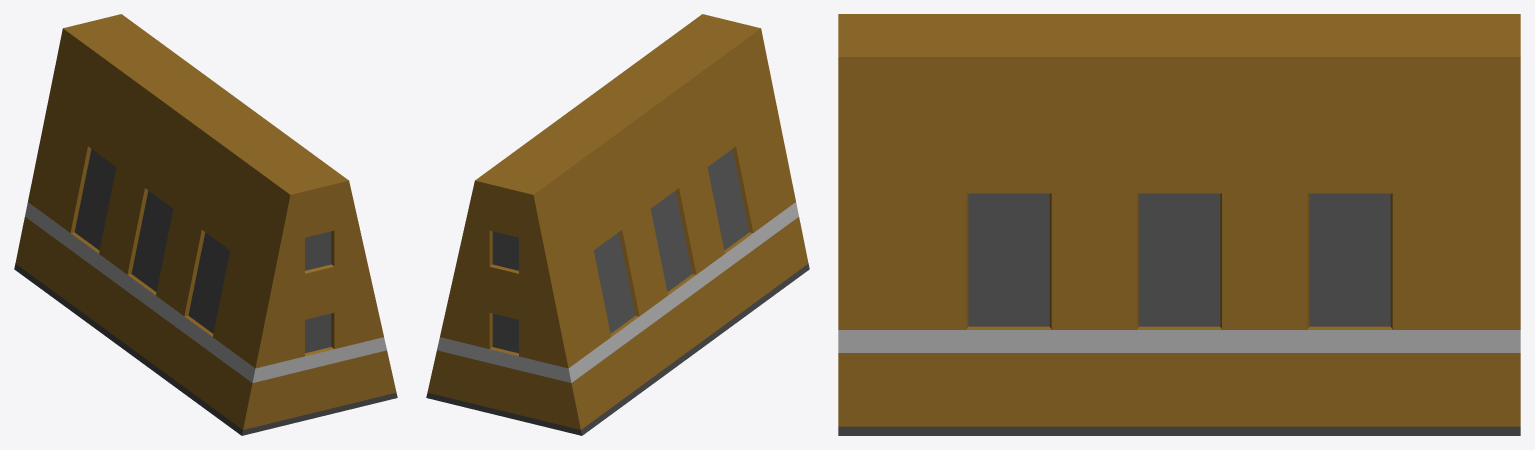
Rendered from SM_Road_Barrier.fbx.
3 views of the same model, side by side, from view 1: azimuth 30°, elevation 25°; view 2: azimuth 150°, elevation 25°; view 3: azimuth 270°, elevation 25° (orthographic). The views are drawn at different scales.
Visible parts, largest first — view 1: SM_Road_Barrier_LOD0; view 2: SM_Road_Barrier_LOD0; view 3: SM_Road_Barrier_LOD0.
Part boxes in pixels (x1=…): SM_Road_Barrier_LOD0: x1=14, y1=14, x2=397, y2=435; SM_Road_Barrier_LOD0: x1=426, y1=14, x2=809, y2=435; SM_Road_Barrier_LOD0: x1=838, y1=14, x2=1520, y2=435.
Size of the model in its own units: 71.18 by 180 by 100.
1 material, 1 textured.
